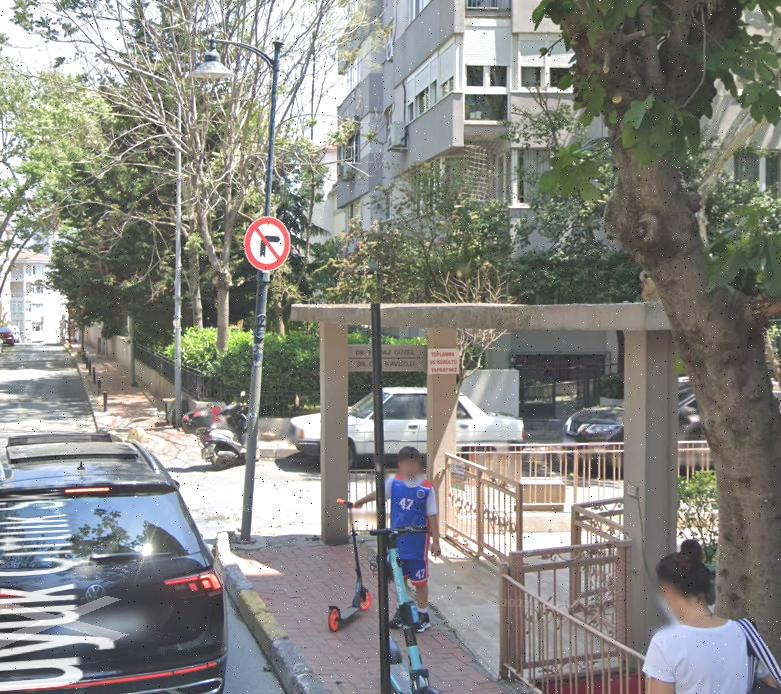rightturnsareforbidden: (243, 219, 291, 272)
